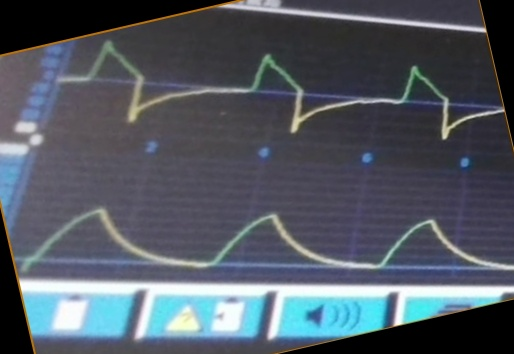Normal Flow: (55, 38, 502, 143)
Normal Volume: (19, 196, 514, 277)
